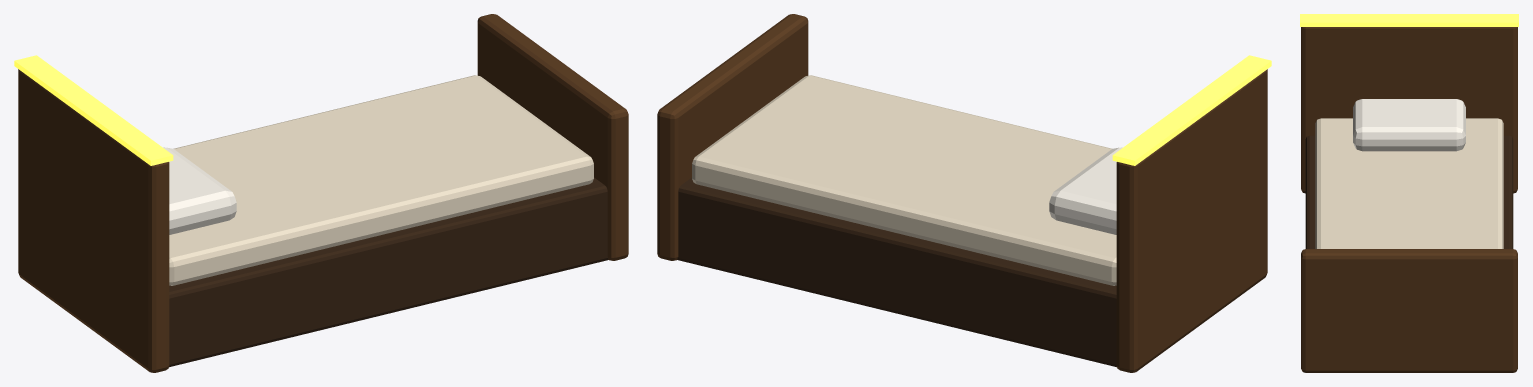
The model's file is bed_1964.glb.
The picture shows the model from 3 angles, left to right: view 1: azimuth 30°, elevation 25°; view 2: azimuth 150°, elevation 25°; view 3: azimuth 270°, elevation 25°; orthographic projection. The views are drawn at different scales.
Parts seen in each view (by area): view 1: mattress, frame, headboard, footboard, trim, pillow; view 2: mattress, frame, headboard, footboard, trim, pillow; view 3: footboard, mattress, headboard, pillow, trim, frame.
Boxes of the visible parts, left/top/right/bottom form: mattress: left=169, top=75, right=593, bottom=285; frame: left=169, top=177, right=608, bottom=367; headboard: left=18, top=69, right=169, bottom=372; footboard: left=477, top=14, right=628, bottom=260; trim: left=14, top=55, right=173, bottom=165; pillow: left=163, top=147, right=236, bottom=234; mattress: left=692, top=75, right=1116, bottom=285; frame: left=677, top=177, right=1116, bottom=367; headboard: left=1116, top=69, right=1267, bottom=372; footboard: left=657, top=14, right=808, bottom=260; trim: left=1112, top=55, right=1271, bottom=165; pillow: left=1049, top=147, right=1122, bottom=234; footboard: left=1301, top=249, right=1517, bottom=372; mattress: left=1315, top=118, right=1503, bottom=248; headboard: left=1301, top=27, right=1517, bottom=193; pillow: left=1353, top=99, right=1465, bottom=151; trim: left=1300, top=14, right=1518, bottom=26; frame: left=1305, top=135, right=1513, bottom=248.
Bounding box in the file's own units: 4.71 × 2.03 × 2.32.
